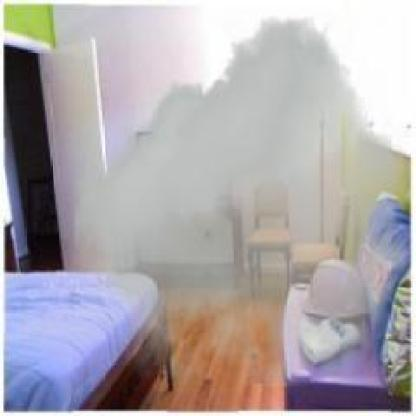Smoke: (74, 17, 412, 386)
